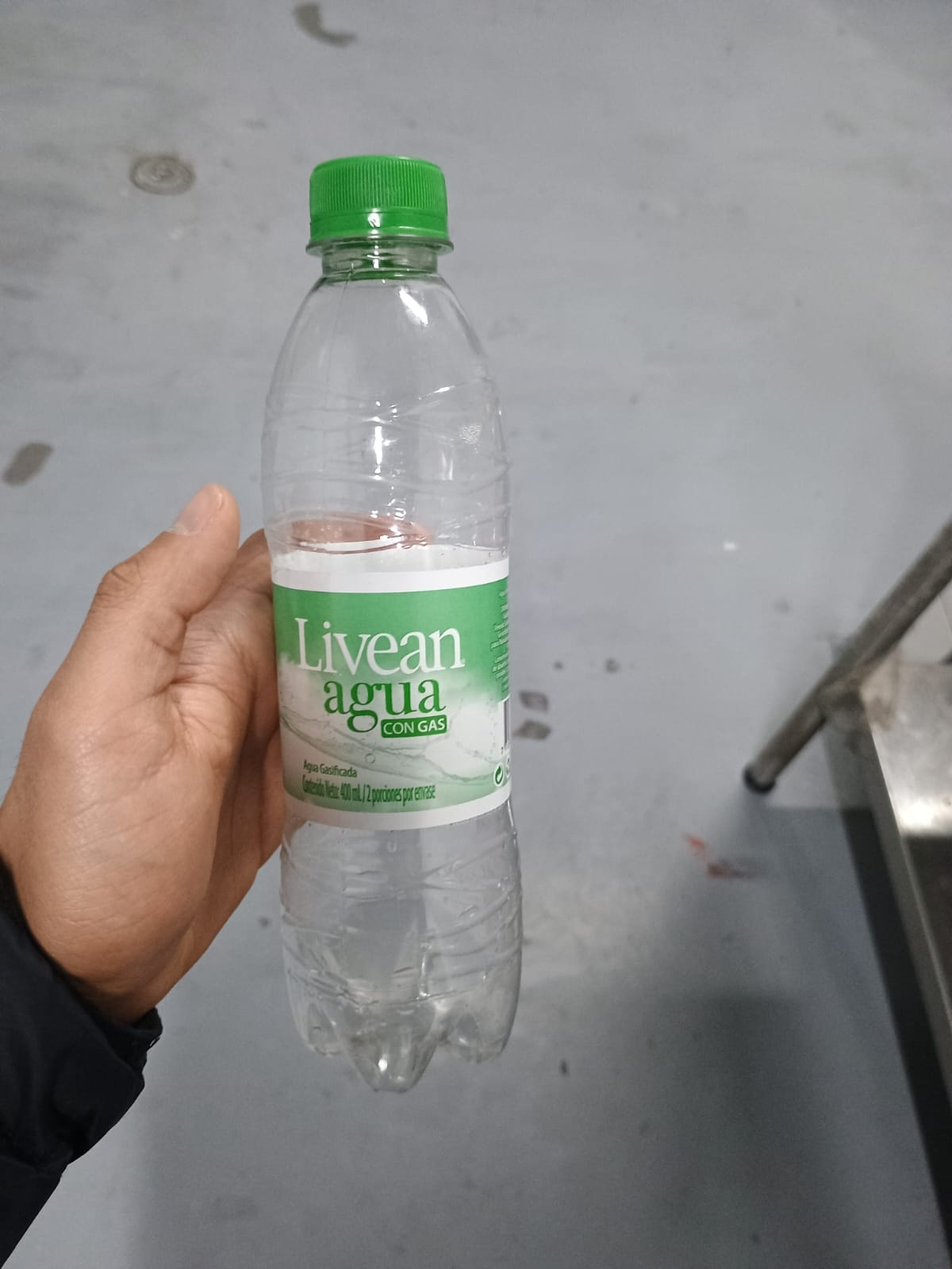Plastico: (260, 156, 520, 1092)
